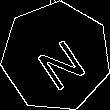N_NW: (25, 25, 87, 89)
